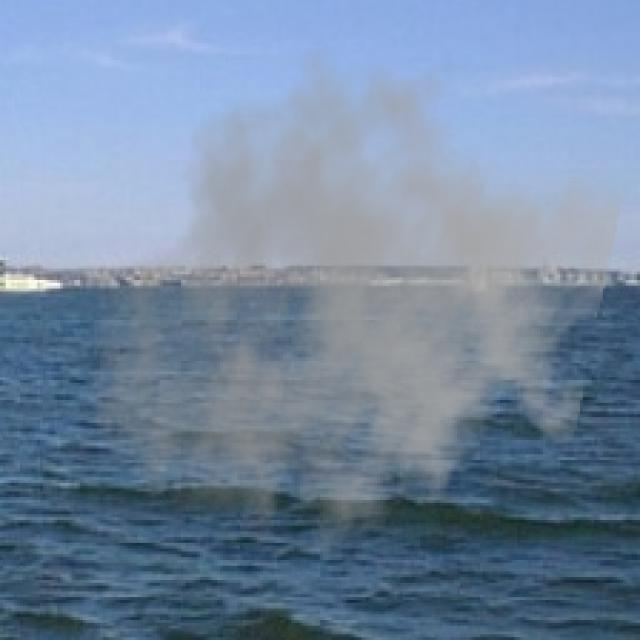smoke: (85, 43, 626, 586)
